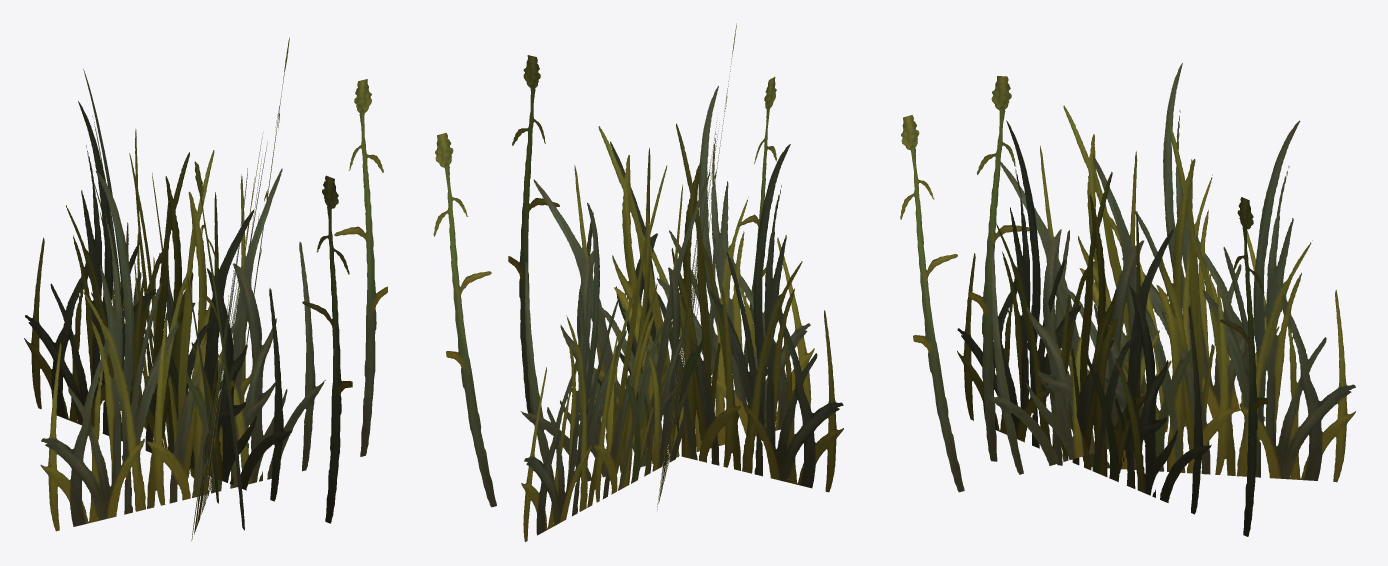
The model's file is grass1.obj.
The picture shows the model from 3 angles, left to right: view 1: azimuth 30°, elevation 25°; view 2: azimuth 150°, elevation 25°; view 3: azimuth 270°, elevation 25°; orthographic projection. The views are drawn at different scales.
Visible parts, largest first — view 1: Mesh1 grass1 Model, Mesh4 grass1 Model, Mesh2 grass1 Model, Mesh3 grass1 Model; view 2: Mesh1 grass1 Model, Mesh3 grass1 Model, Mesh2 grass1 Model, Mesh4 grass1 Model; view 3: Mesh2 grass1 Model, Mesh3 grass1 Model, Mesh4 grass1 Model.
Part boxes in pixels (bbox=[...]): Mesh1 grass1 Model: bbox=[40, 79, 387, 531]; Mesh4 grass1 Model: bbox=[24, 101, 352, 523]; Mesh2 grass1 Model: bbox=[83, 69, 244, 530]; Mesh3 grass1 Model: bbox=[191, 37, 289, 540]; Mesh1 grass1 Model: bbox=[508, 55, 843, 492]; Mesh3 grass1 Model: bbox=[433, 86, 814, 507]; Mesh2 grass1 Model: bbox=[521, 77, 776, 541]; Mesh4 grass1 Model: bbox=[657, 23, 736, 509]; Mesh2 grass1 Model: bbox=[969, 76, 1355, 482]; Mesh3 grass1 Model: bbox=[957, 120, 1267, 536]; Mesh4 grass1 Model: bbox=[900, 63, 1279, 492].
Bounding box in the file's own units: 0.9394 × 1.07 × 1.15.
Materials: 1 (1 with a texture image).
